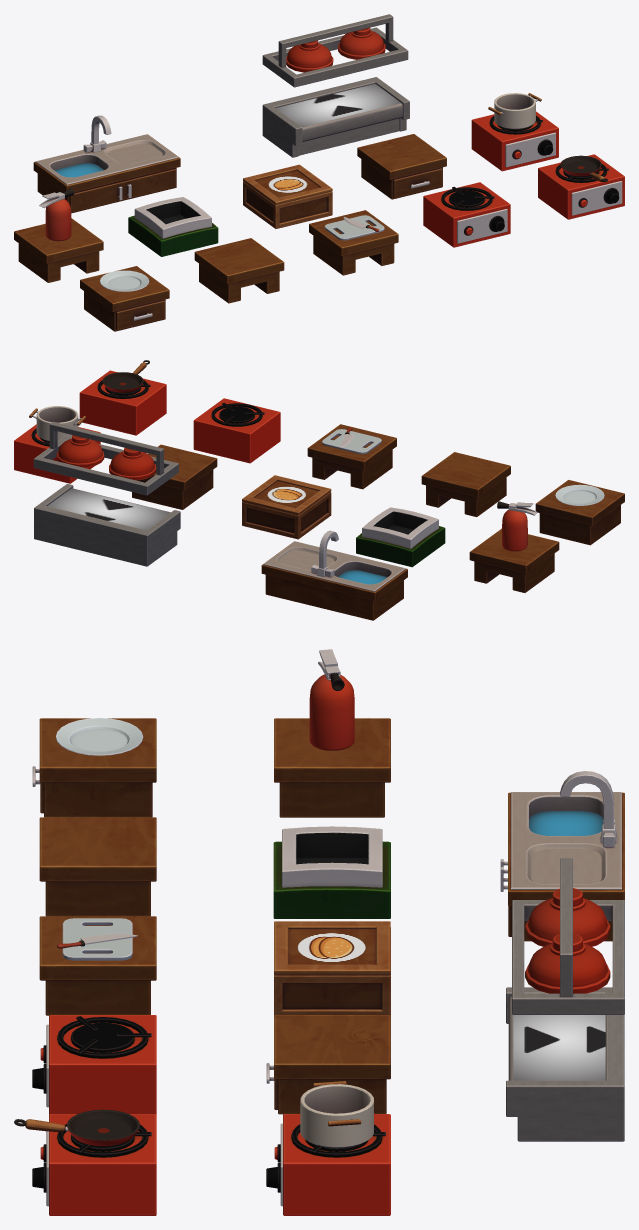
The model's file is overcooked_assets.obj.
3 views of the same model, one above another, from view 1: azimuth 30°, elevation 25°; view 2: azimuth 150°, elevation 25°; view 3: azimuth 270°, elevation 25° (orthographic). The views are drawn at different scales.
Visible parts, largest first — view 1: Delivery_Counter.001, Sink.001, Stove, Kitchen_Cabin-2, Kitchen_Cabin, Garbage_Can.001, Stove.003, Stove.004, Kitchen_Cabin.006, Kitchen_Cabin-2.002, Kitchen_Cabin.003, Ingredients_Box (+6 smaller); view 2: Delivery_Counter.001, Sink.001, Stove, Kitchen_Cabin, Garbage_Can.001, Stove.003, Kitchen_Cabin.006, Kitchen_Cabin-2.002, Kitchen_Cabin.003, Kitchen_Cabin-2, Ingredients_Box, Ingredients_Box_Lid (+6 smaller); view 3: Delivery_Counter.001, Sink.001, Kitchen_Cabin, Stove, Garbage_Can.001, Kitchen_Cabin.006, Stove.003, Kitchen_Cabin-2, Stove.004, Kitchen_Cabin-2.002, Kitchen_Cabin.003, Ingredients_Box_Lid (+6 smaller).
Part boxes in pixels (left/top/right/bottom): Delivery_Counter.001: left=262, top=14, right=409, bottom=157; Sink.001: left=33, top=115, right=180, bottom=213; Stove: left=423, top=182, right=510, bottom=247; Kitchen_Cabin-2: left=357, top=134, right=446, bottom=199; Kitchen_Cabin: left=194, top=238, right=284, bottom=303; Garbage_Can.001: left=128, top=197, right=218, bottom=256; Stove.003: left=538, top=154, right=624, bottom=219; Stove.004: left=471, top=111, right=558, bottom=171; Kitchen_Cabin.006: left=14, top=218, right=103, bottom=282; Kitchen_Cabin-2.002: left=80, top=266, right=169, bottom=331; Kitchen_Cabin.003: left=309, top=210, right=398, bottom=275; Ingredients_Box: left=243, top=181, right=332, bottom=228; Delivery_Counter.001: left=33, top=421, right=180, bottom=566; Sink.001: left=261, top=530, right=407, bottom=620; Stove: left=193, top=398, right=280, bottom=463; Kitchen_Cabin: left=421, top=452, right=510, bottom=516; Garbage_Can.001: left=356, top=507, right=445, bottom=567; Stove.003: left=79, top=370, right=166, bottom=435; Kitchen_Cabin.006: left=469, top=528, right=559, bottom=592; Kitchen_Cabin-2.002: left=535, top=480, right=624, bottom=545; Kitchen_Cabin.003: left=307, top=424, right=396, bottom=489; Kitchen_Cabin-2: left=132, top=444, right=217, bottom=509; Ingredients_Box: left=242, top=492, right=331, bottom=539; Ingredients_Box_Lid: left=242, top=475, right=331, bottom=515; Delivery_Counter.001: left=506, top=858, right=624, bottom=1141; Sink.001: left=500, top=771, right=624, bottom=941; Kitchen_Cabin: left=39, top=817, right=156, bottom=916; Stove: left=32, top=1015, right=156, bottom=1114; Garbage_Can.001: left=273, top=826, right=390, bottom=918; Kitchen_Cabin.006: left=274, top=718, right=390, bottom=817; Stove.003: left=32, top=1114, right=156, bottom=1215; Kitchen_Cabin-2: left=266, top=1015, right=390, bottom=1114; Stove.004: left=266, top=1114, right=390, bottom=1215; Kitchen_Cabin-2.002: left=32, top=718, right=156, bottom=817; Kitchen_Cabin.003: left=39, top=916, right=156, bottom=1015; Ingredients_Box_Lid: left=274, top=921, right=390, bottom=975.
Size of the model in its own units: 18 by 3.52 by 10.44.
Materials: 3 (3 with a texture image).
